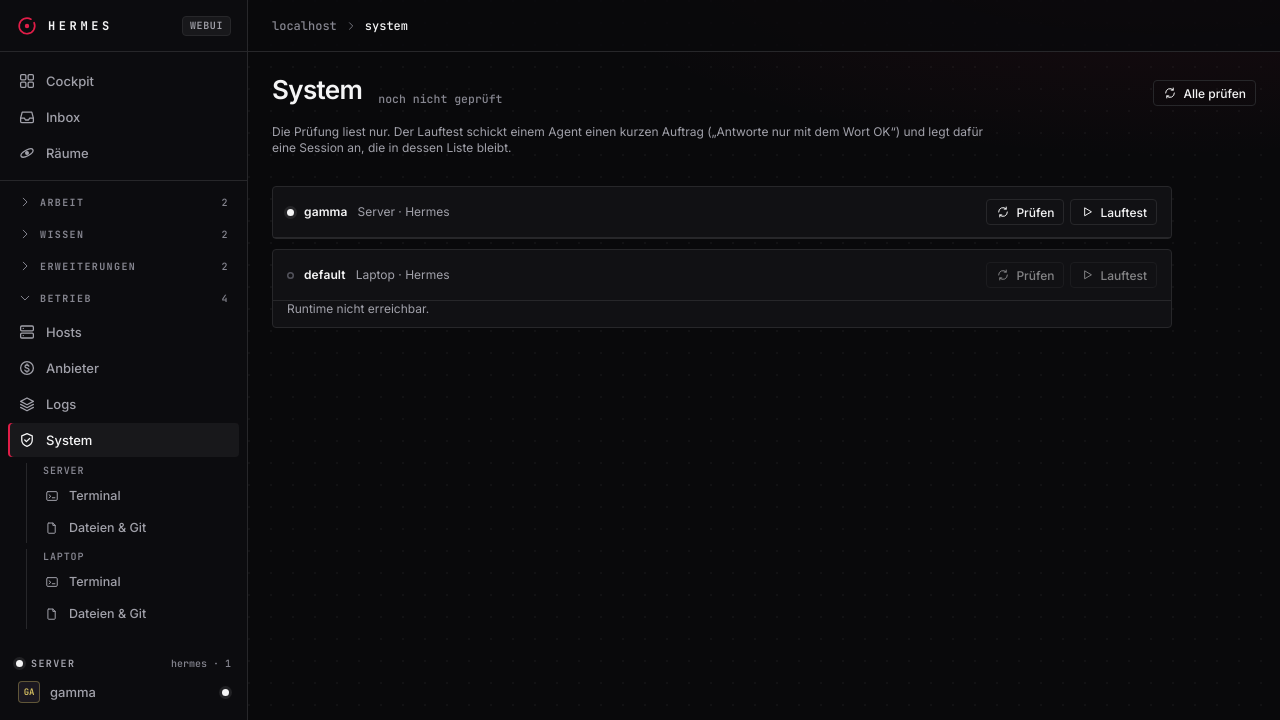
Test case: System › shows an error when the check itself cannot be fetched
The image size is (1280, 720).
Expected: the heading "System" is shown, [272, 74, 362, 106]
Expected: the element named "Server gamma" is shown, [272, 186, 1172, 239]
Step 1. Click the 1st button "Prüfen" → (1025, 212), box [986, 199, 1064, 225]
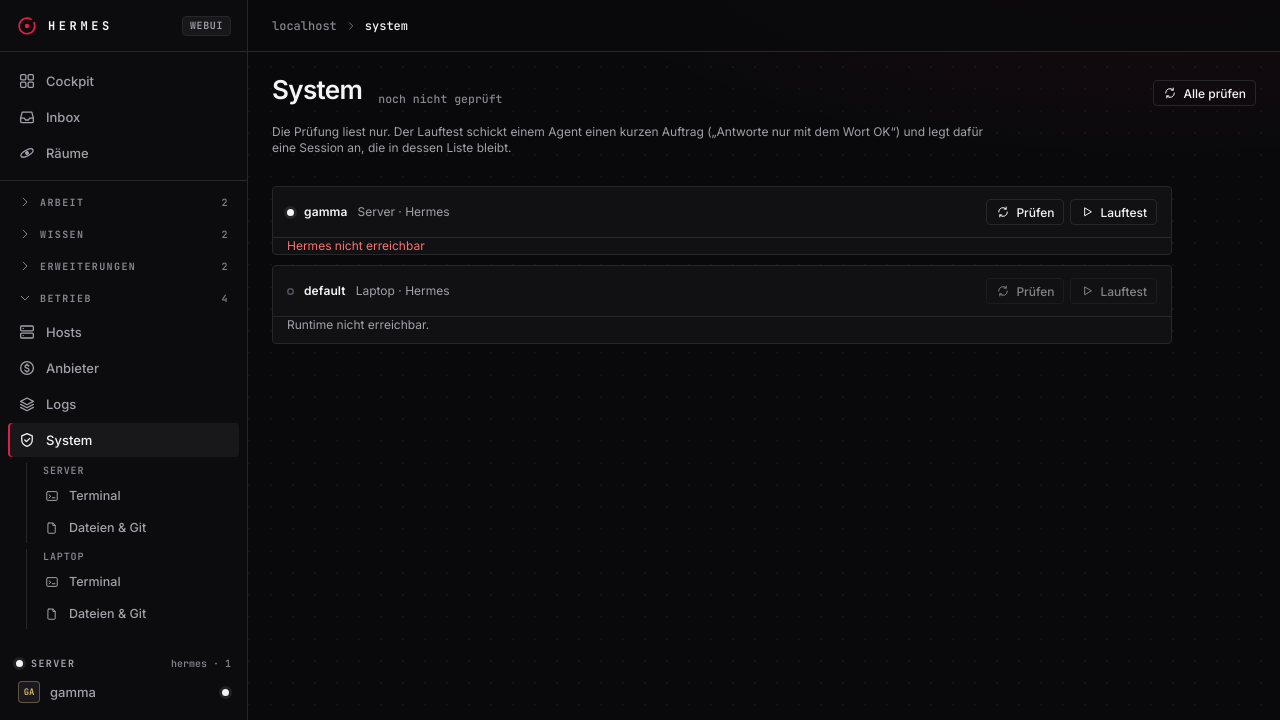
Expected: the message reads "Hermes nicht erreichbar", [287, 238, 425, 253]
